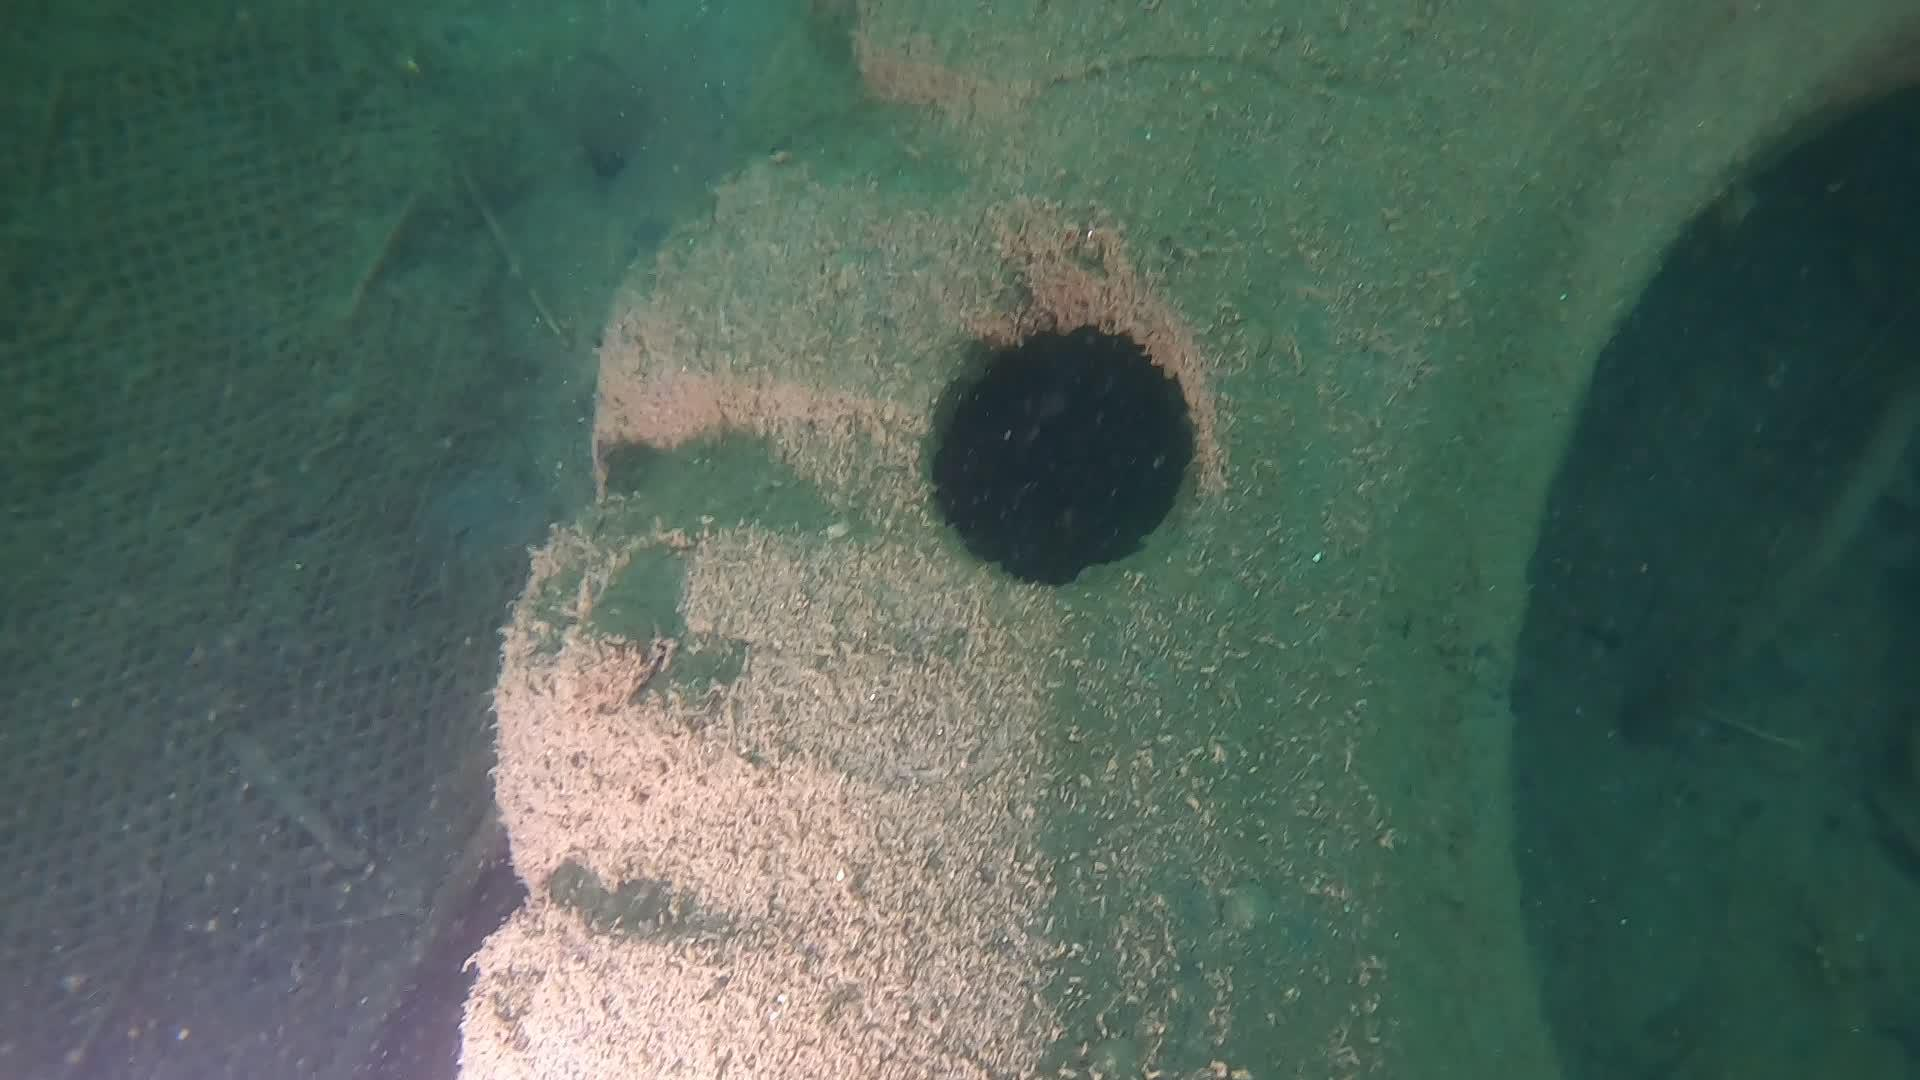fish net: (3, 1, 452, 1080)
tire: (459, 0, 1920, 1080)
